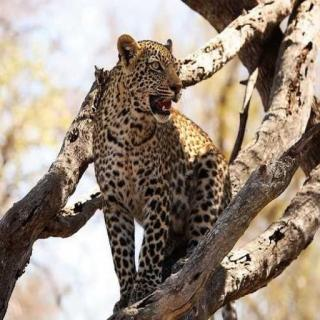-: (76, 26, 224, 286)
